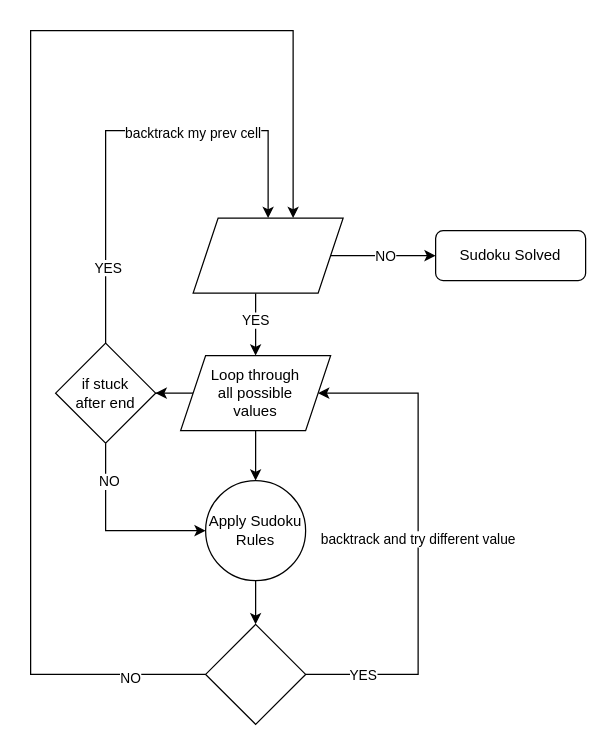
The diagram is 608 pixels wide and 746 high, and some of its shapes have lost their labels. Here are the shapes that lost their labels. From the top down, the box of each, then its label:
(192, 217, 343, 293): While there are empty cells
(204, 623, 306, 724): if stuck
